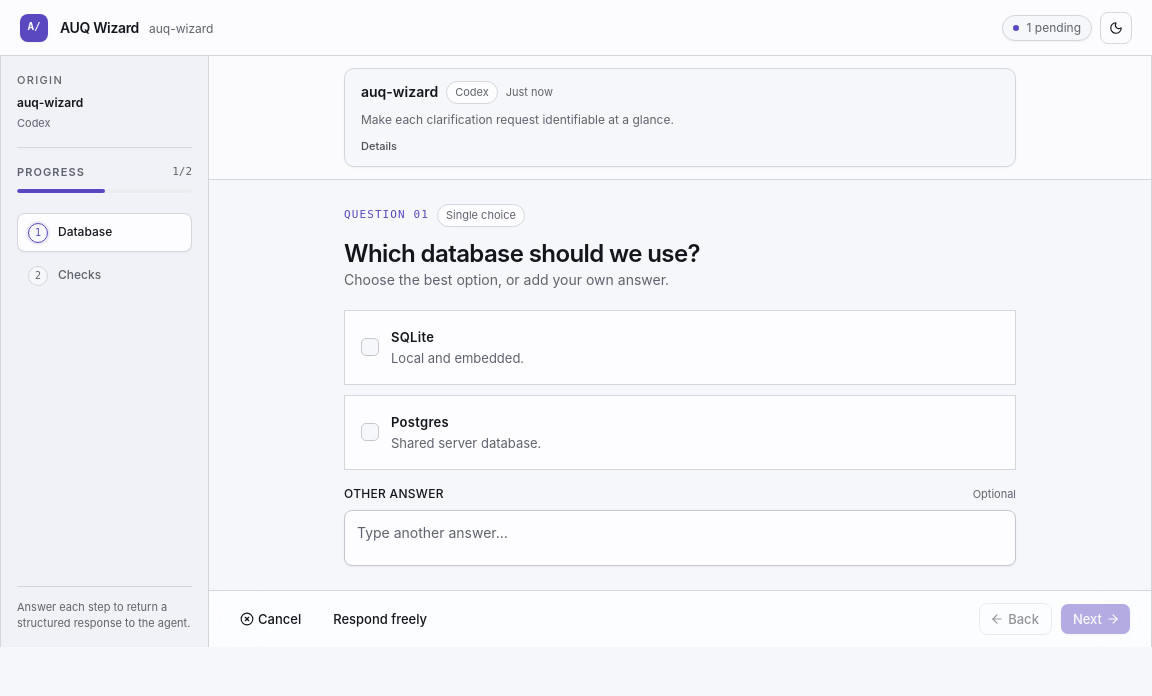
Test: QuestionWizard › shows project, agent, task summary, and request details before the question
Expected: the text "auq-wizard" is shown 3 times, 149,20 -> 214,36; 17,94 -> 83,110; 361,82 -> 438,102
Expected: the text "Codex" is shown 2 times, 17,116 -> 50,130; 446,81 -> 498,104
Click the heading "Details": (379,146) 361,138 -> 397,154
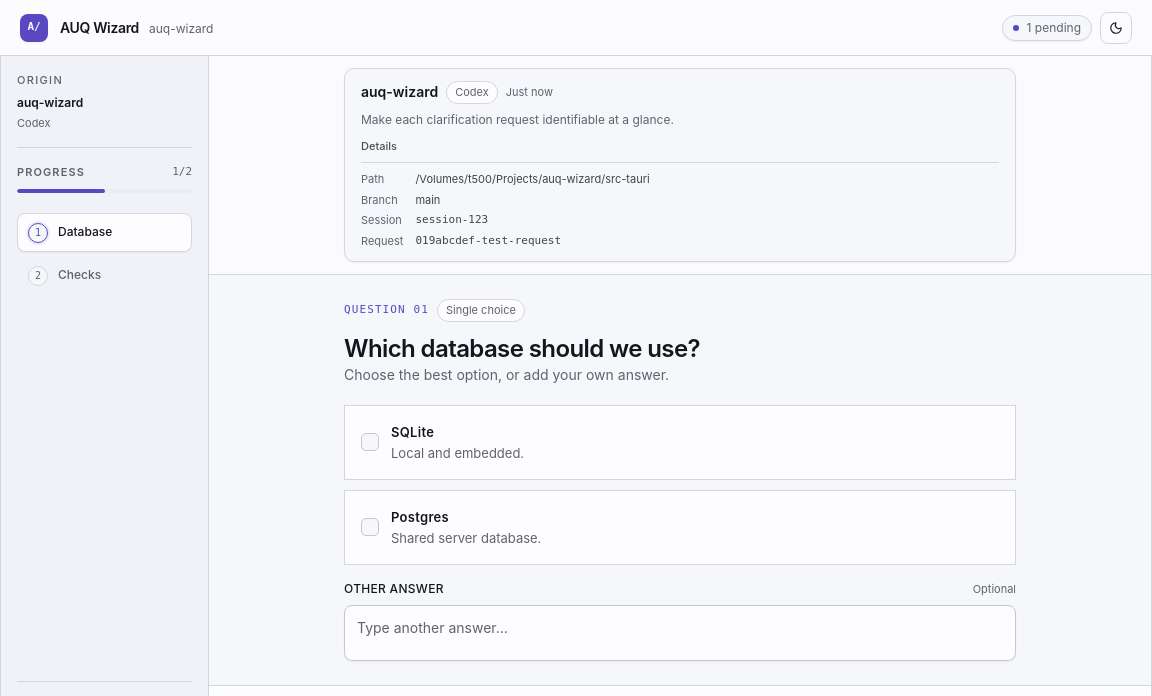
Expected: the text "/Volumes/t500/Projects/auq-wizard/src-tauri" is shown, 415,172 -> 650,186
Expected: the text "019abcdef-test-request" is shown, 415,234 -> 561,246
